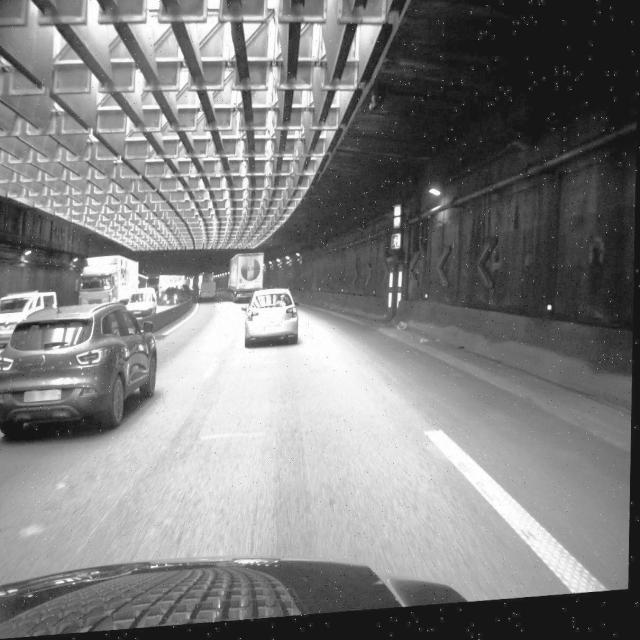Car: (0, 303, 159, 435), (241, 287, 300, 348)
Truck: (76, 256, 140, 313), (228, 256, 266, 307)
